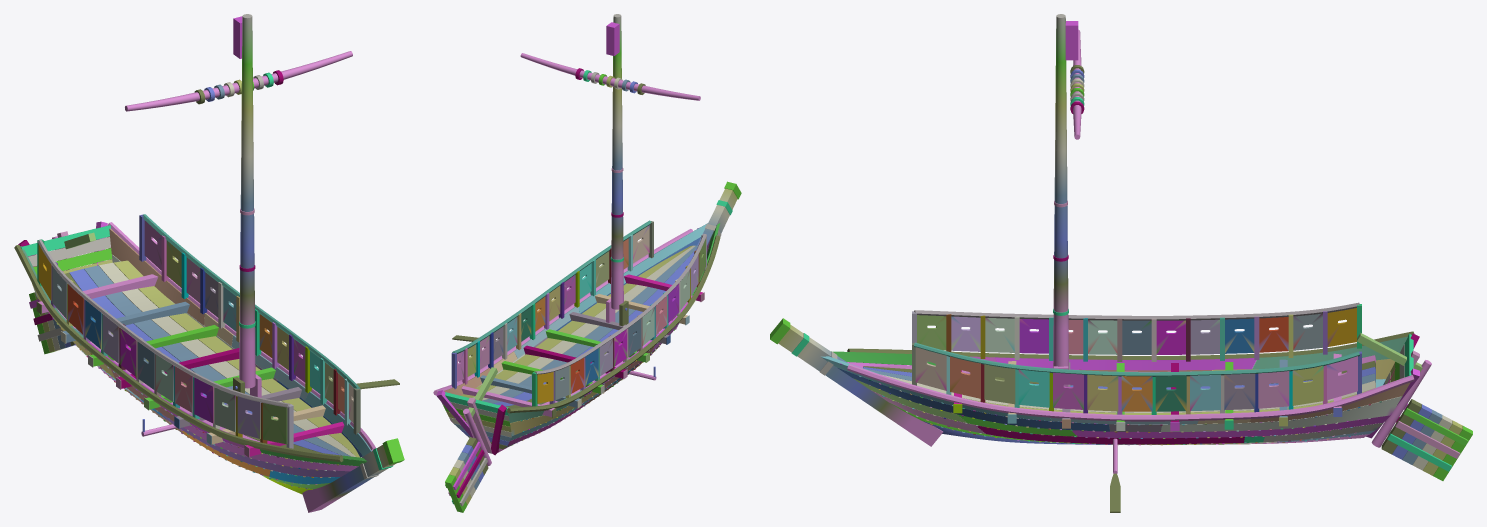
Rendered from kobaya.glb.
3 views of the same model, side by side, from view 1: azimuth 30°, elevation 25°; view 2: azimuth 150°, elevation 25°; view 3: azimuth 270°, elevation 25° (orthographic). The views are drawn at different scales.
Parts seen in each view (by area): view 1: hull, mast, yard, rudder, oar; view 2: hull, mast, rudder, yard; view 3: hull, rudder, mast, yard.
Part boxes in pixels (x1,y1,x2,y2): hull: [14, 214, 404, 512]; mast: [233, 14, 255, 388]; yard: [125, 51, 352, 111]; rudder: [29, 232, 95, 354]; oar: [141, 379, 399, 436]; hull: [433, 181, 741, 455]; mast: [606, 14, 623, 309]; rudder: [445, 367, 497, 512]; yard: [520, 53, 700, 100]; hull: [770, 302, 1419, 446]; rudder: [1357, 333, 1472, 480]; mast: [1053, 14, 1078, 369]; yard: [1070, 29, 1084, 139].
Size of what is drawn, in the model's own units: 5.94 by 9.43 by 12.95.
